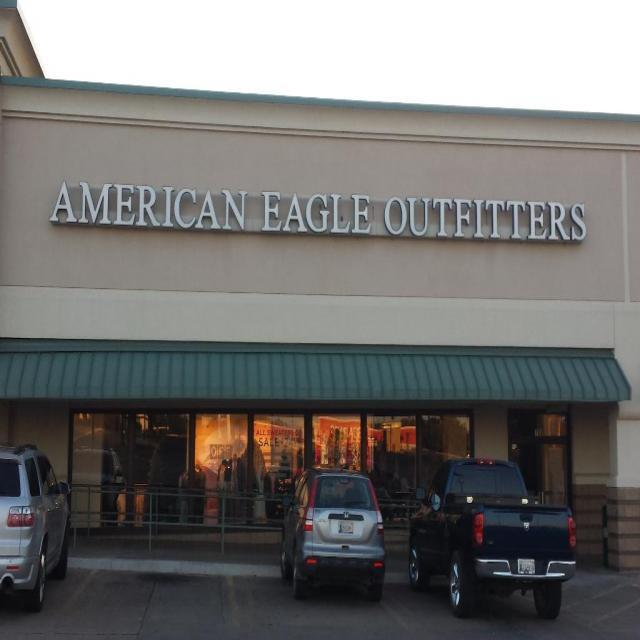bicycle: (392, 466, 576, 624)
